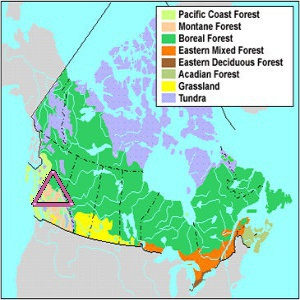triangle: (29, 166, 77, 211)
